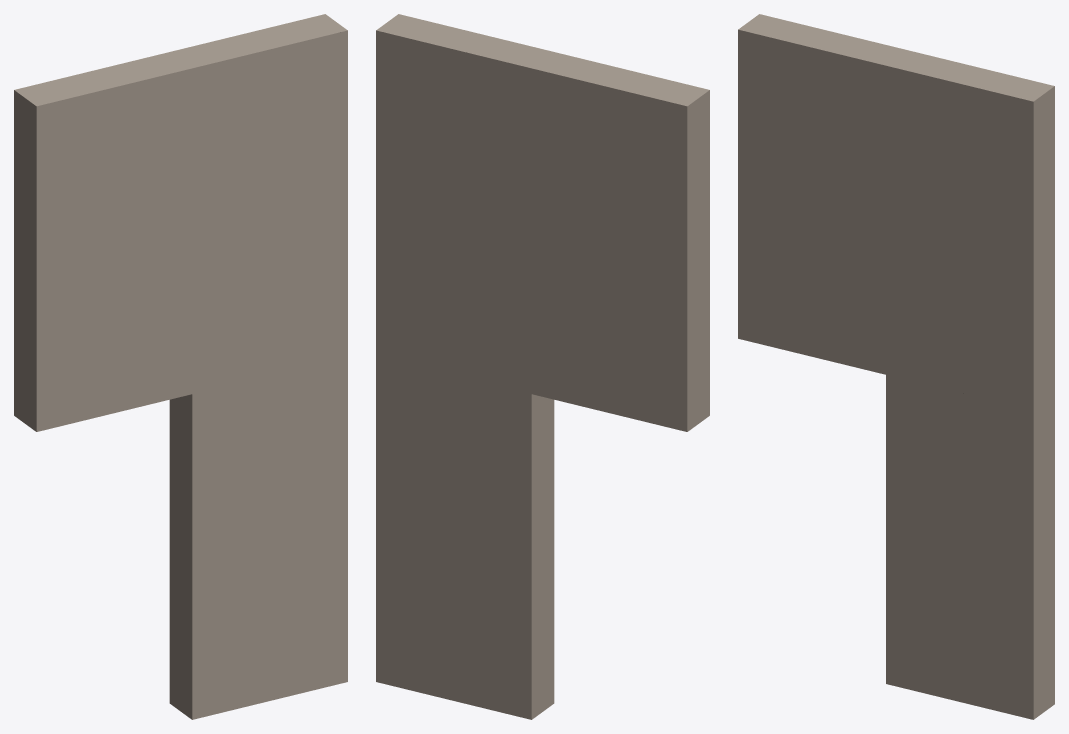
Rendered from wall_textured_g_2_doors_col.gltf.
The picture shows the model from 3 angles, left to right: view 1: azimuth 30°, elevation 25°; view 2: azimuth 150°, elevation 25°; view 3: azimuth 330°, elevation 25°; orthographic projection. The views are drawn at different scales.
Visible parts, largest first — view 1: wall_textured_g_2_doors_col; view 2: wall_textured_g_2_doors_col; view 3: wall_textured_g_2_doors_col.
Boxes of the visible parts, <box> form: wall_textured_g_2_doors_col: <box>14,14,347,719</box>; wall_textured_g_2_doors_col: <box>376,14,709,719</box>; wall_textured_g_2_doors_col: <box>738,14,1054,719</box>.
Size of the model in its own units: 2 by 4 by 0.25.
Materials: 1 (1 with a texture image).
